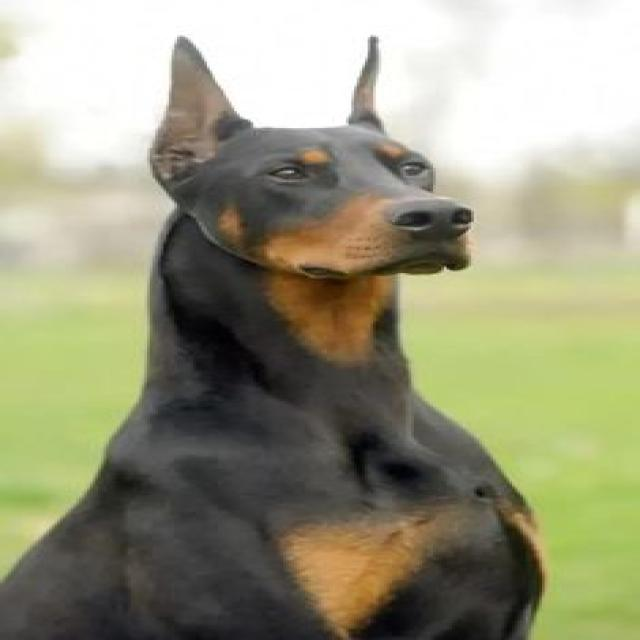Carnivorous: (0, 37, 550, 640)
